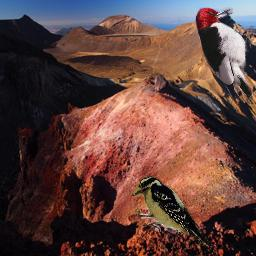Woodpecker: (131, 173, 213, 248), (195, 7, 254, 102)
